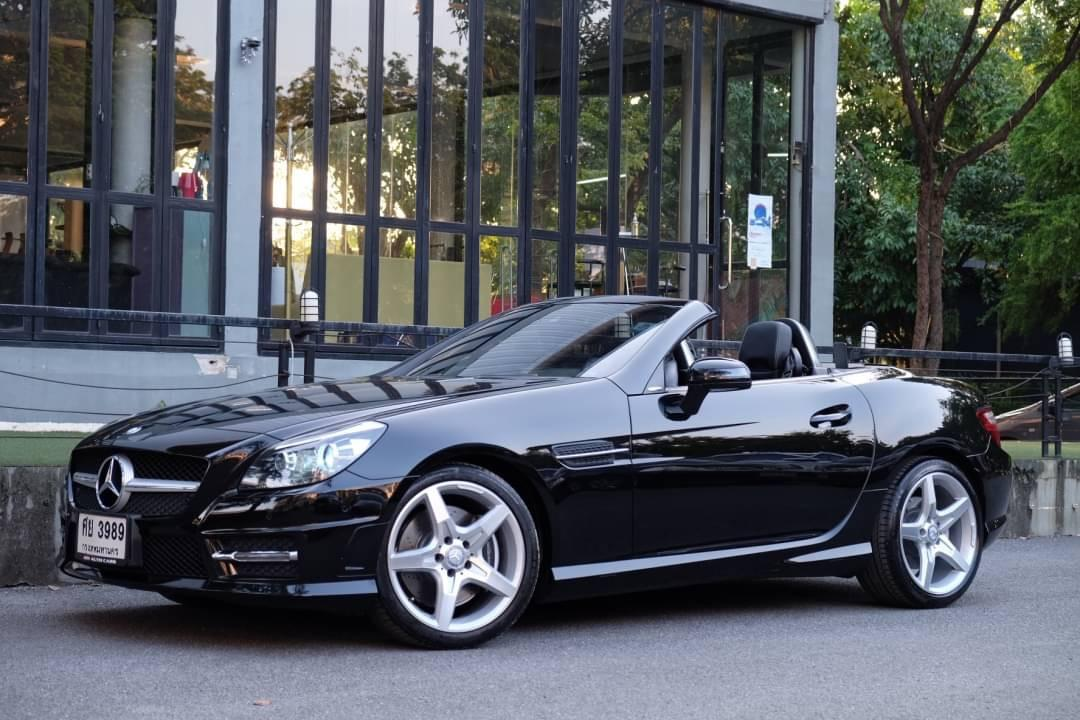license-plate: (64, 505, 135, 571)
